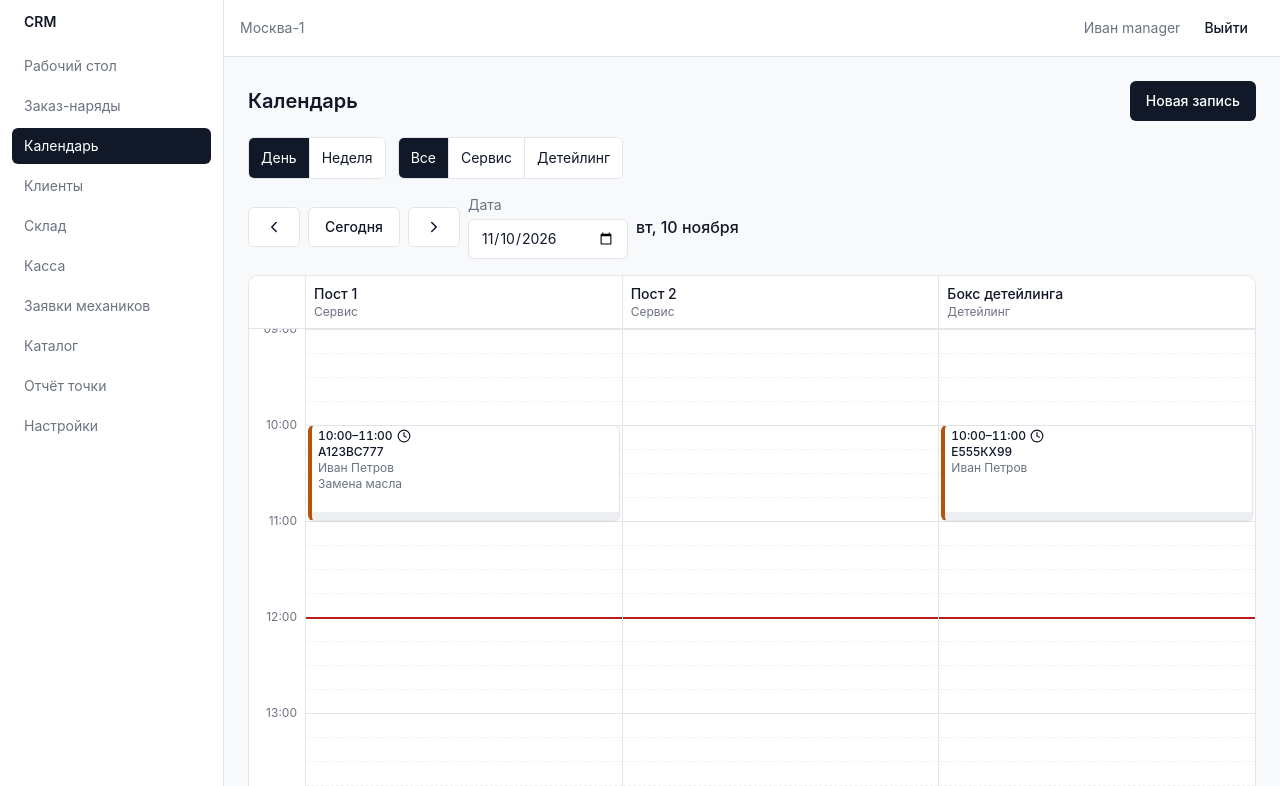
it: календарь: отображение › фильтр по отделу: запрос с department, лишние посты и записи скрыты
The image size is (1280, 786).
Check: the text "Пост 1" is shown, box x1=314 y1=285 x2=357 y2=302
Click the button "Детейлинг". click: [574, 158]
box: x1=525 y1=138 x2=622 y2=178
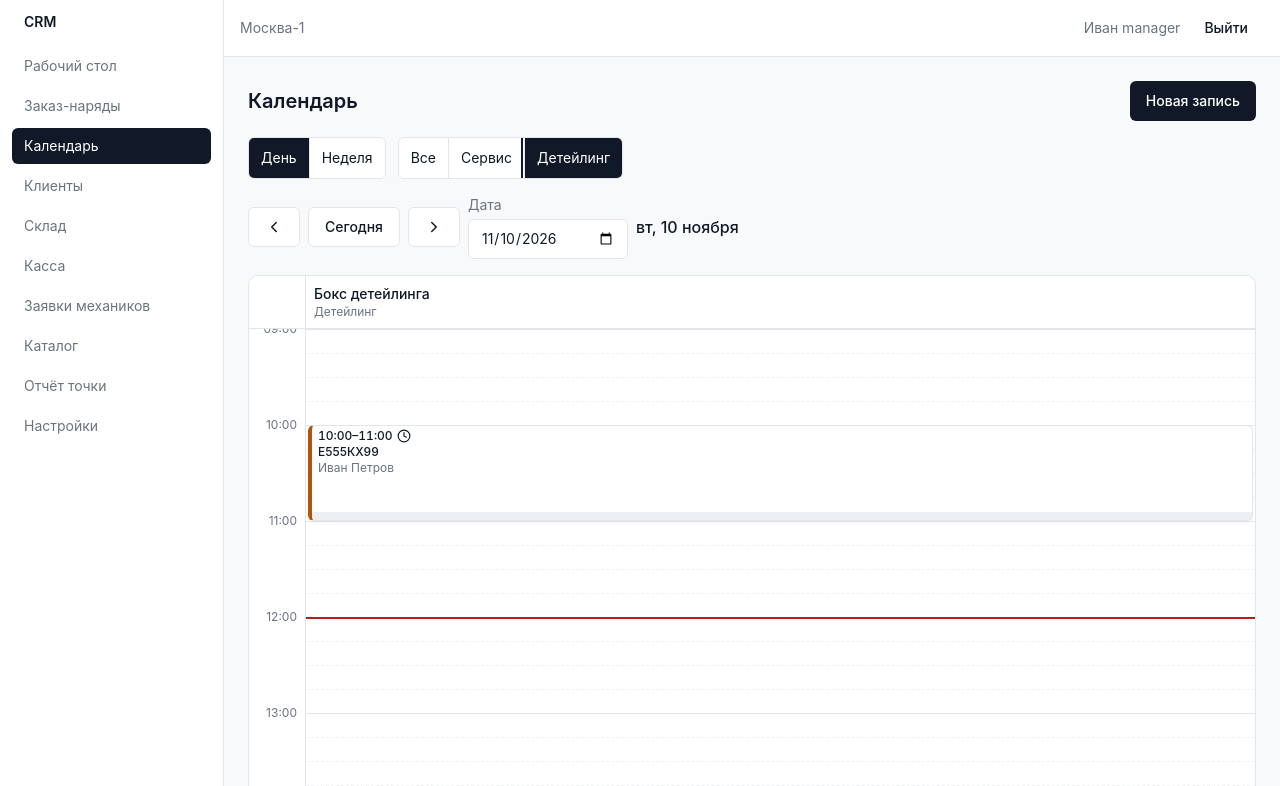
Check: the text "Бокс детейлинга" is shown, box x1=314 y1=285 x2=430 y2=302
Check: the text "Пост 1" is gone
Click the button "Все". click: [424, 158]
box: x1=399 y1=138 x2=449 y2=178
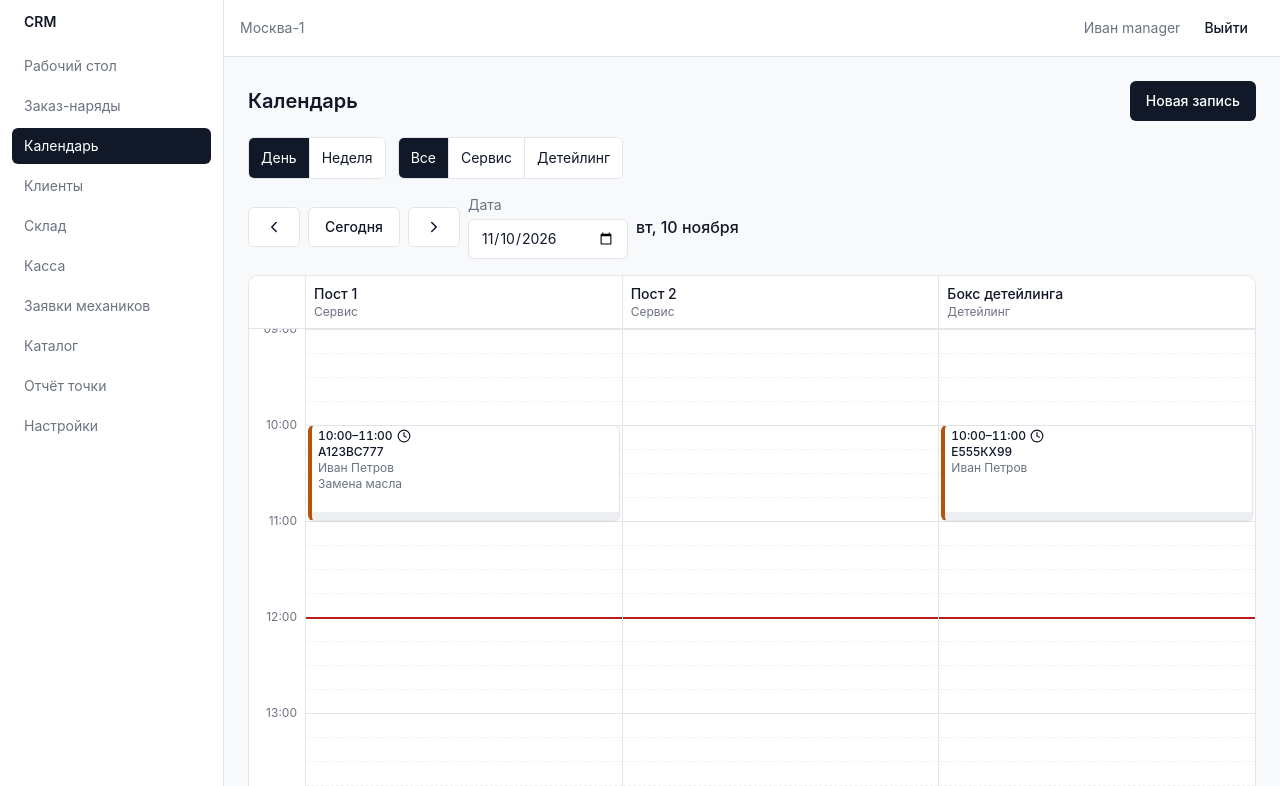
Check: the text "Пост 1" is shown, box x1=314 y1=285 x2=357 y2=302
